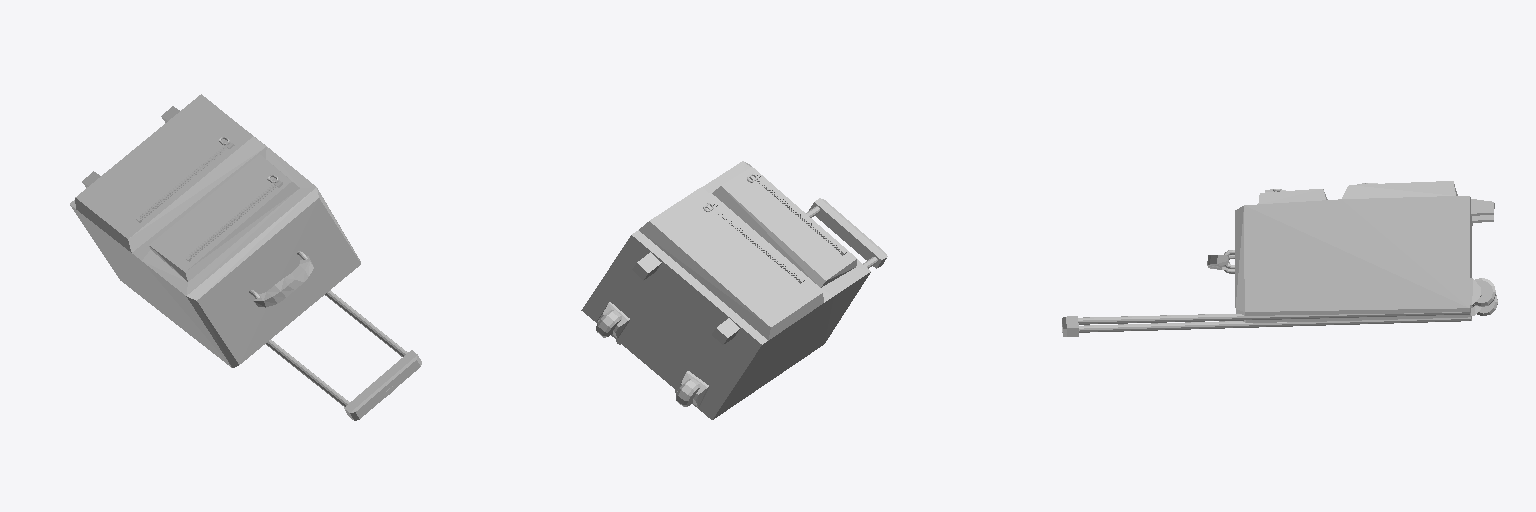
3 views of the same model, side by side, from view 1: azimuth 30°, elevation 25°; view 2: azimuth 150°, elevation 25°; view 3: azimuth 270°, elevation 25° (orthographic).
Visible parts, largest first — view 1: suitcase.001_model.001; view 2: suitcase.001_model.001; view 3: suitcase.001_model.001.
Part boxes in pixels (x1,y1,x2,y2): suitcase.001_model.001: (70, 94, 421, 420); suitcase.001_model.001: (581, 161, 887, 419); suitcase.001_model.001: (1062, 181, 1497, 336).
Bounding box in the file's own units: 1.07 × 1.01 × 2.21.